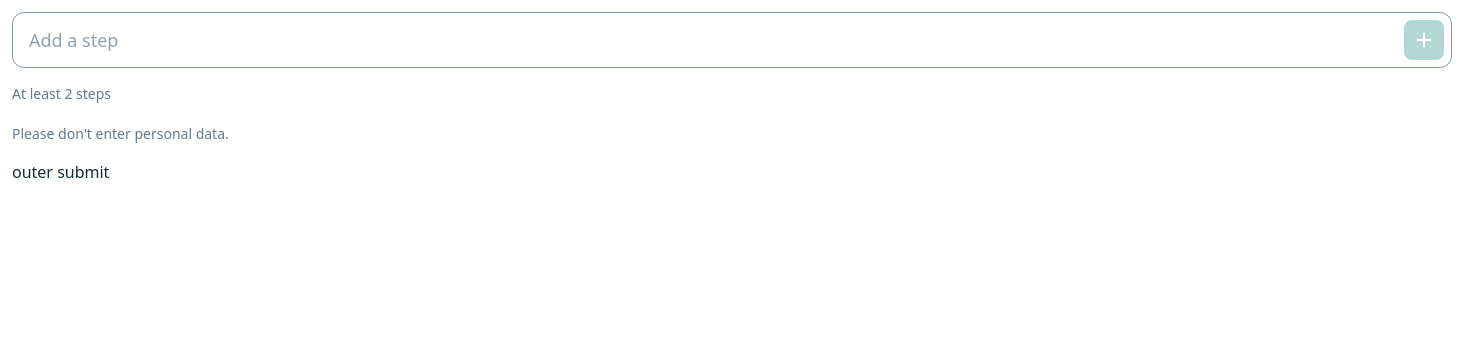
Test: TraceEditor inside another form › adds with Enter and the add button without submitting the outer form
The image size is (1464, 343).
Type "A" into the dropdown with test id "trace-input" at (732,40), box 12,12 -> 1452,68
Then press Enter
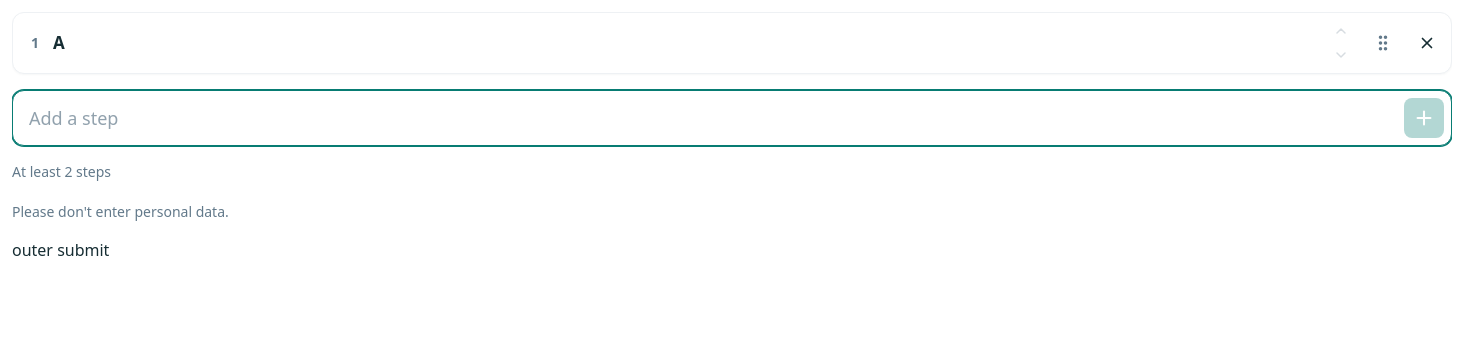
Type "B" into the dropdown with test id "trace-input" at (732,118), box 12,90 -> 1452,146
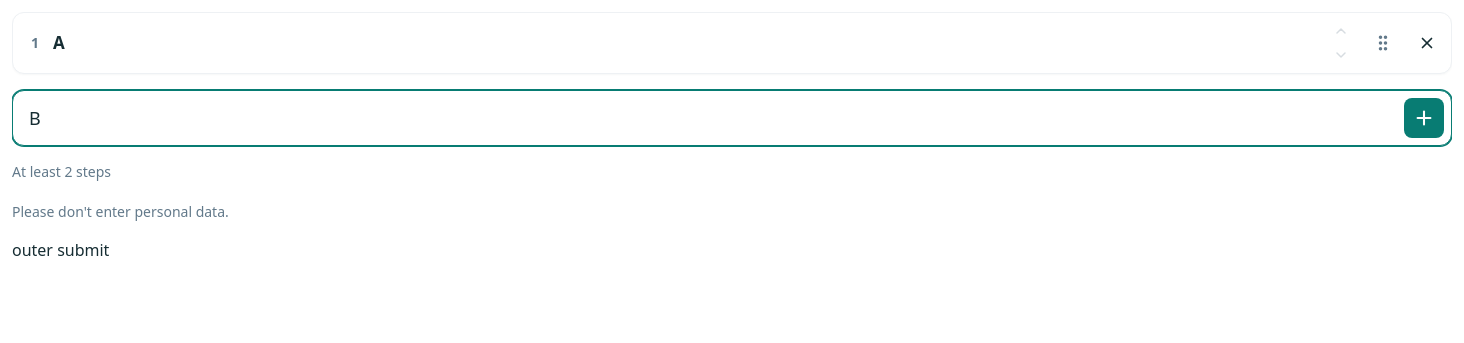
Click the button with test id "trace-add" at (1424,118), box 1404,98 -> 1444,138
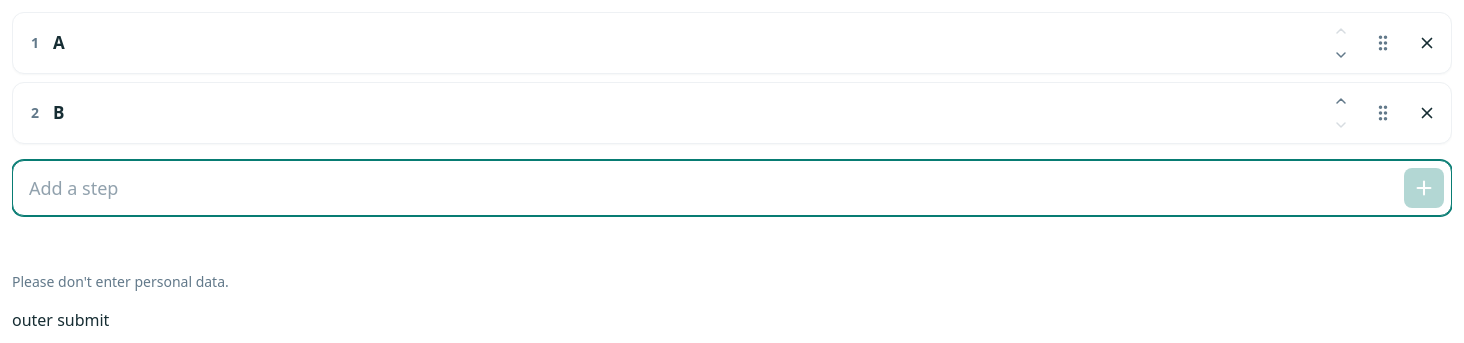
Expected: the number of list items with test id "trace-item" is 2, 12,12 -> 1452,74; 12,82 -> 1452,144
